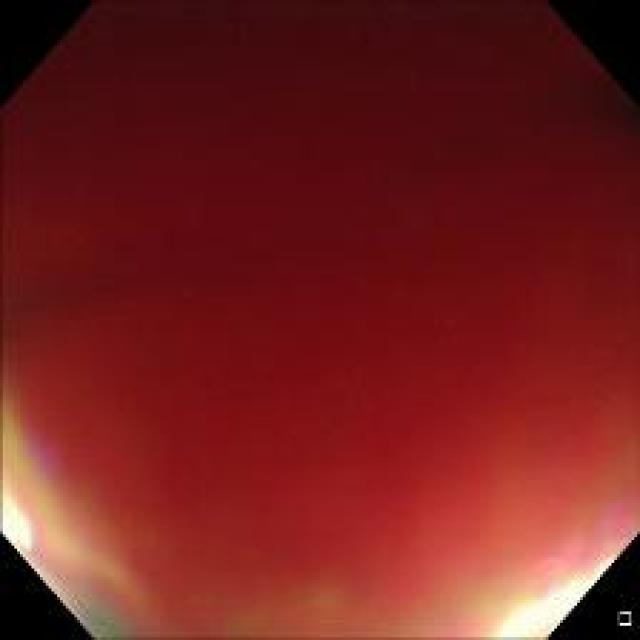color misalignment: (8, 9, 632, 634), (4, 394, 136, 635), (489, 538, 618, 636)
saturation: (496, 559, 610, 629), (0, 475, 44, 556)
